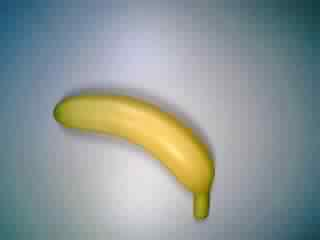banana: (48, 86, 219, 221)
